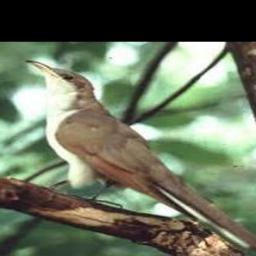Cuckoo: (26, 60, 256, 256)
